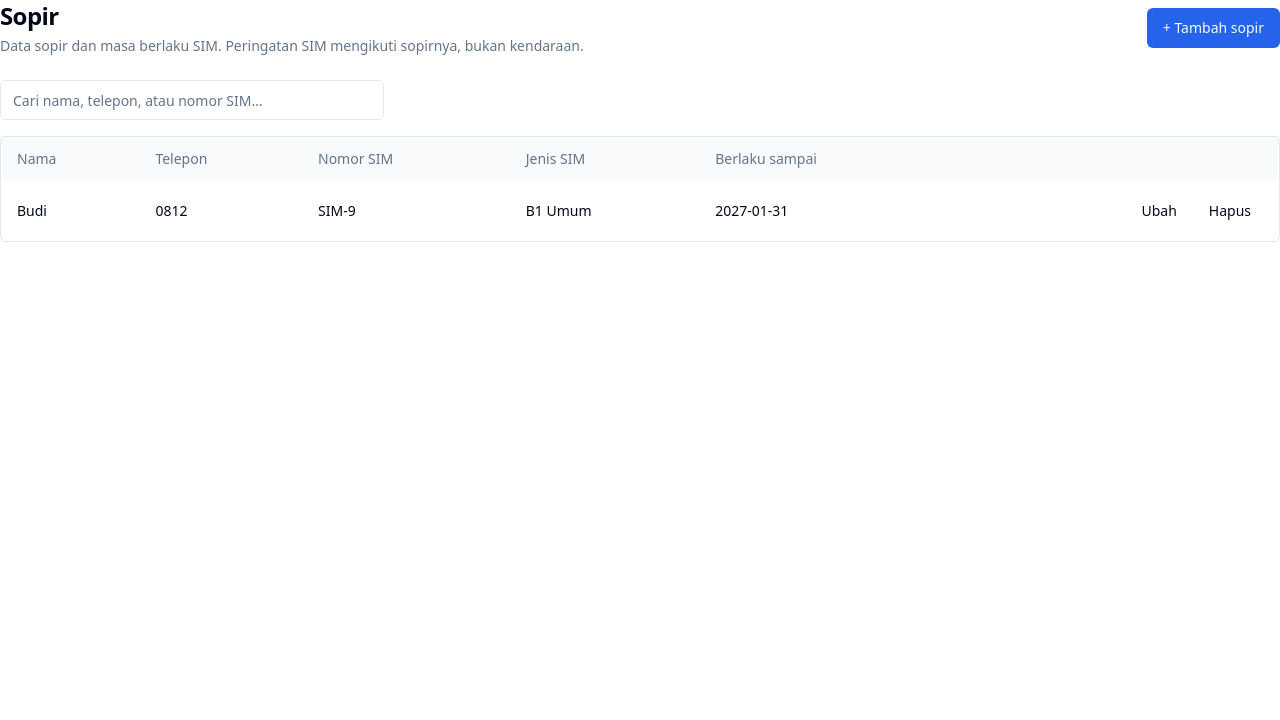
Test case: FleetDriversPage › the create/edit branch › opens the create form blank
The image size is (1280, 720).
Click the button "+ Tambah sopir" at (1213, 28), box top-left (1147, 8), bottom-right (1279, 48)
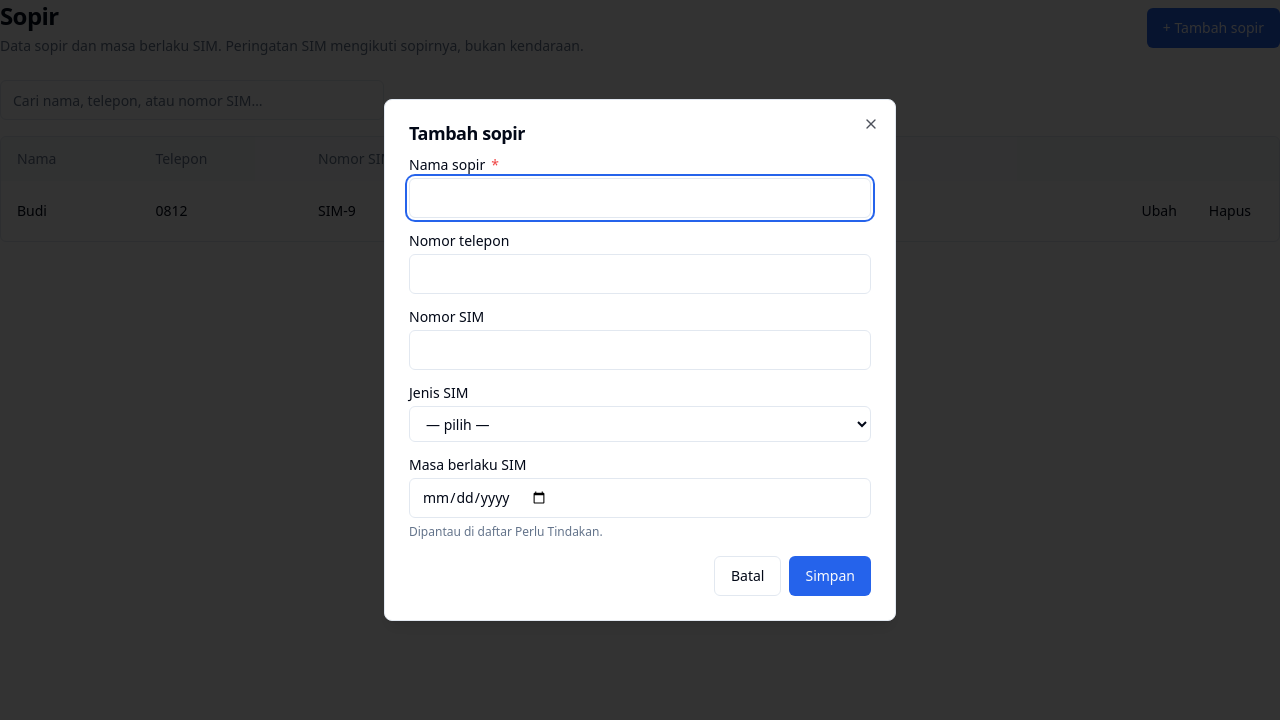
Expected: the field labelled "Nomor telepon" is empty, top-left (409, 254), bottom-right (871, 294)
Result: the field labelled "Nama sopir *" is empty at top-left (409, 178), bottom-right (871, 218)
Result: the heading "Tambah sopir" is shown at top-left (409, 121), bottom-right (525, 145)
